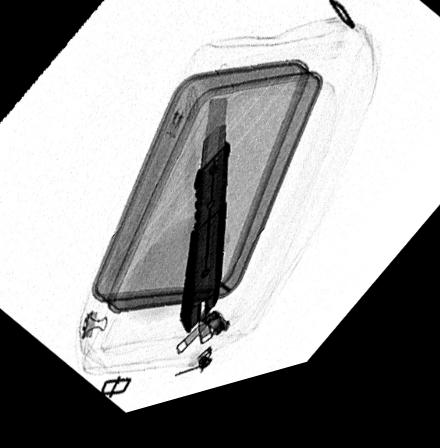Knife: (178, 109, 231, 345)
